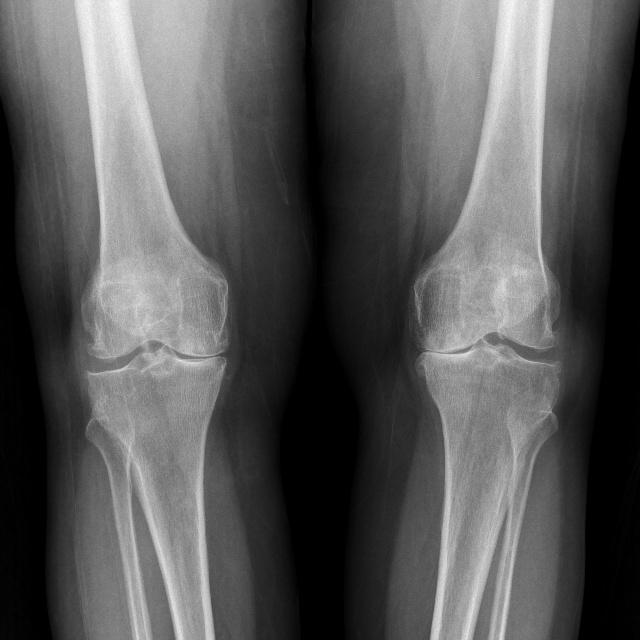Knee: (410, 282, 566, 416), (77, 282, 226, 409)
